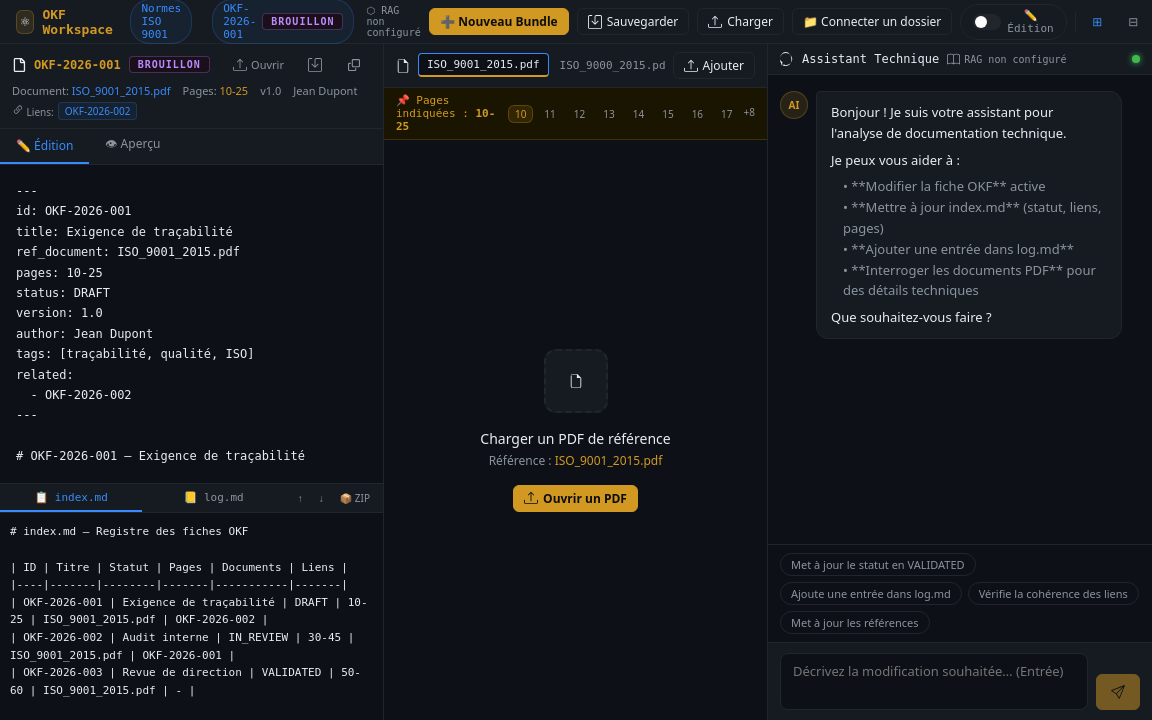
Test: App (composition root) › opens and closes the InitializerModal via the "New Bundle" header button
Expected: the text "Créer un nouveau Bundle OKF" is not shown
Click the button "➕ Nouveau Bundle" at (499, 22), box [429,8,569,35]
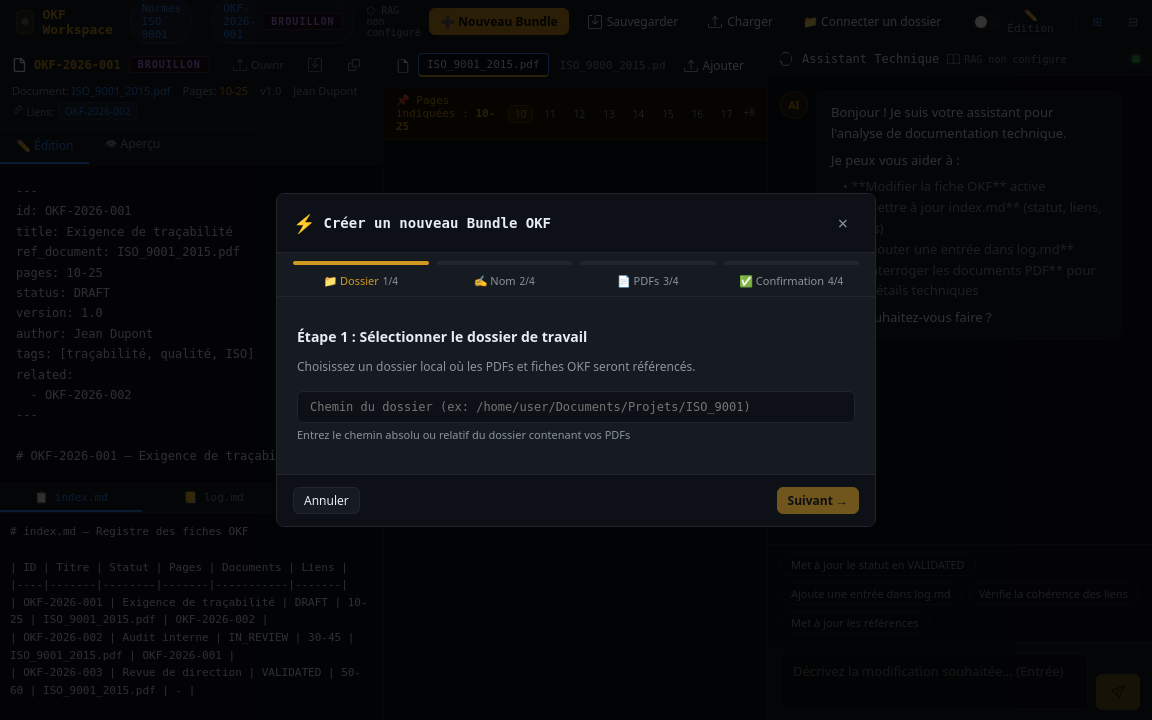
Now the text "Créer un nouveau Bundle OKF" is shown, box [324,215,551,231]
Click the button "×" at (843, 223), box [827,206,859,240]
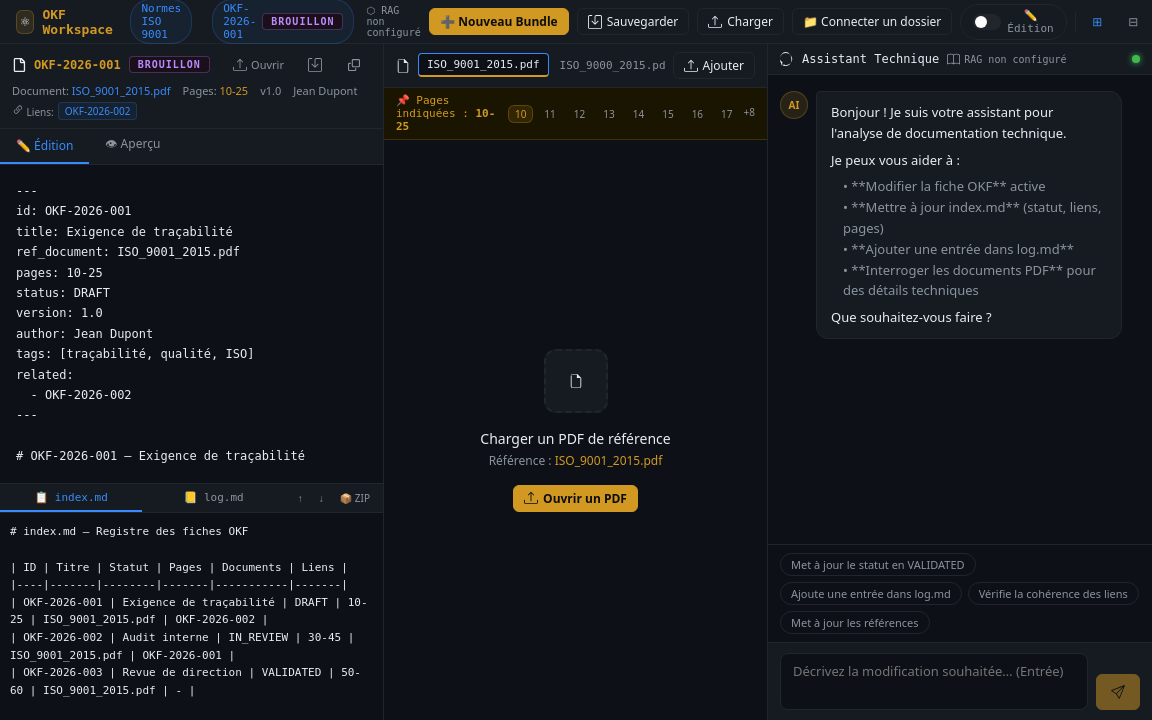
Now the text "Créer un nouveau Bundle OKF" is gone
